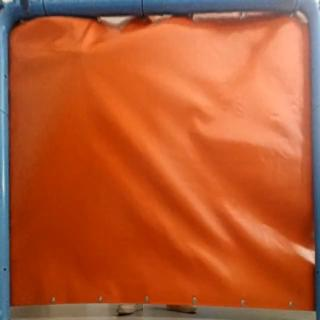Hit-hRxx: (72, 46, 92, 62)
